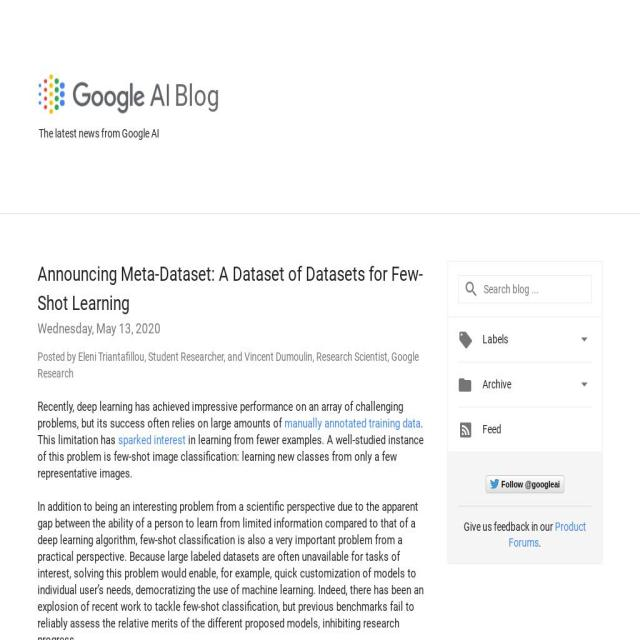button: (26, 56, 182, 139), (486, 474, 564, 494), (458, 416, 501, 436), (189, 128, 219, 142)
field: (458, 275, 592, 303)
heading: (38, 263, 423, 315), (174, 75, 220, 117), (482, 374, 512, 395), (483, 329, 508, 349), (482, 419, 502, 440)
image: (28, 75, 593, 142), (458, 330, 473, 351), (458, 419, 473, 440)
link: (509, 519, 586, 549), (284, 416, 420, 431), (118, 432, 186, 448)
text: (38, 499, 424, 640), (38, 432, 424, 481), (38, 416, 423, 447), (38, 399, 403, 431), (38, 350, 418, 380), (39, 125, 593, 142), (38, 320, 160, 337), (464, 519, 555, 533), (490, 478, 561, 489), (577, 374, 592, 395), (577, 329, 592, 349), (458, 375, 472, 396), (539, 535, 541, 549)
